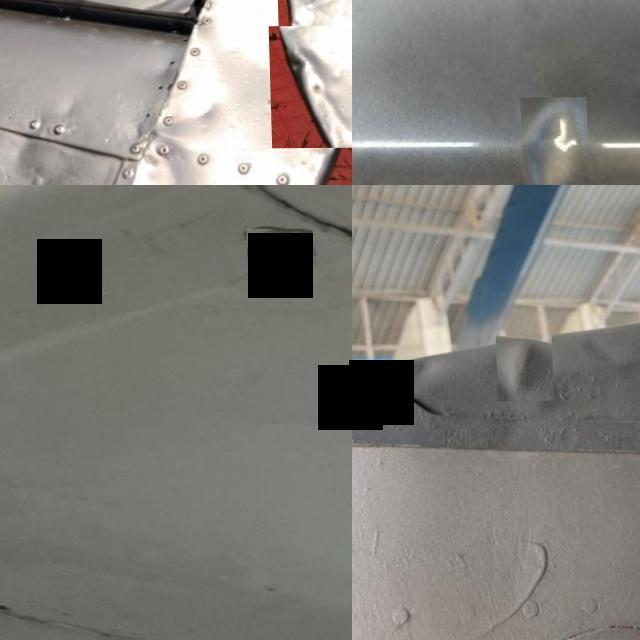Dent: (96, 78, 236, 185), (266, 26, 352, 149), (521, 99, 586, 185), (494, 336, 552, 402), (274, 0, 352, 44), (386, 351, 438, 392)
Missing_Fastener: (246, 229, 314, 273)
